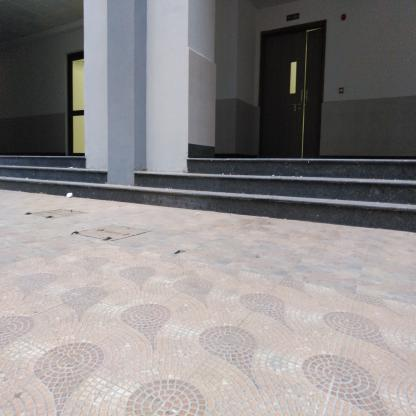stairs: (190, 156, 415, 217)
